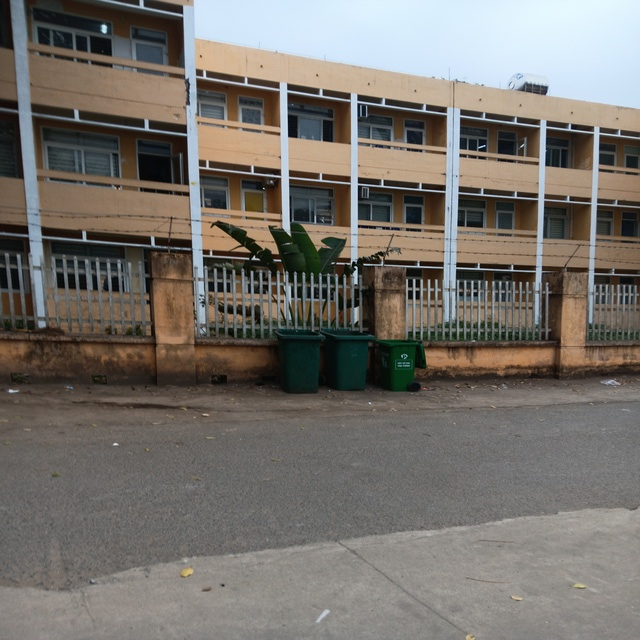thungrac: (272, 328, 324, 396), (378, 337, 429, 398), (330, 327, 370, 393)
